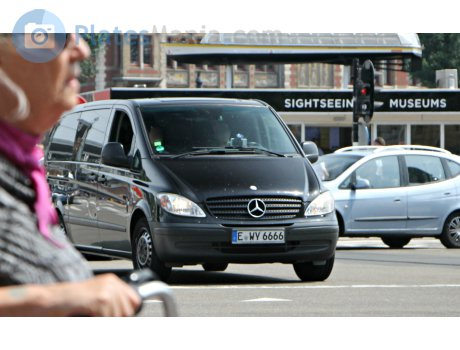License Plates: (237, 226, 280, 240)
